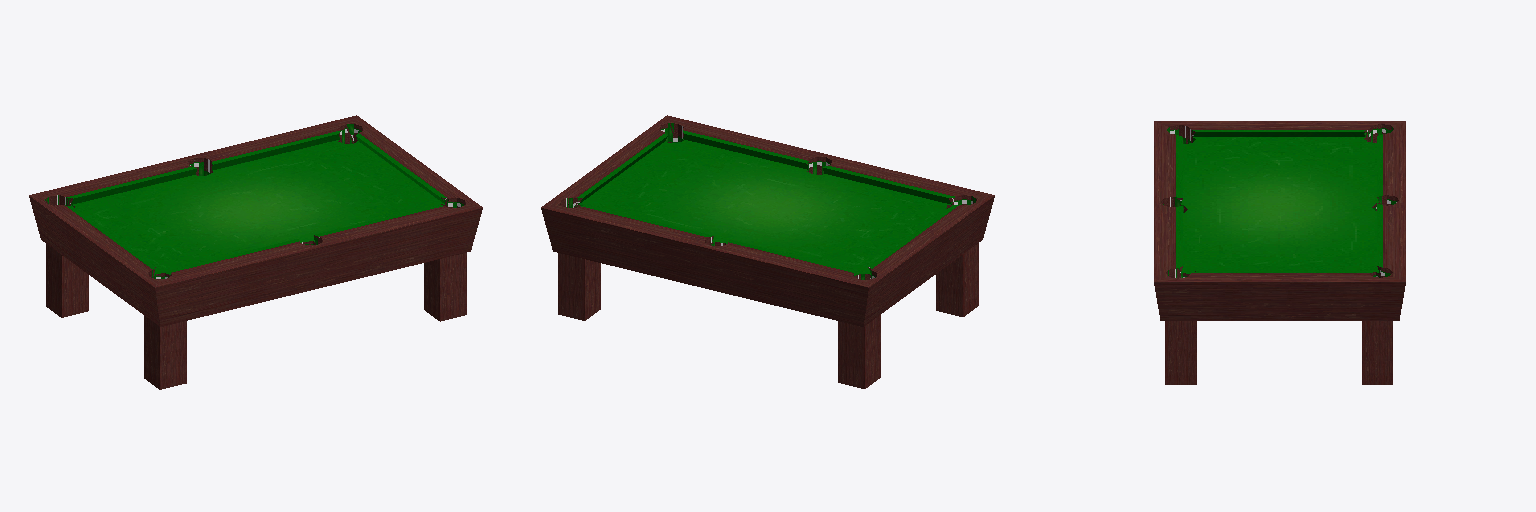
The picture shows the model from 3 angles: view 1: azimuth 30°, elevation 25°; view 2: azimuth 150°, elevation 25°; view 3: azimuth 270°, elevation 25°; orthographic projection.
Visible parts, largest first — view 1: Mesh_Cube; view 2: Mesh_Cube; view 3: Mesh_Cube.
Part boxes in pixels (left/top/right/bottom): Mesh_Cube: left=29, top=115, right=482, bottom=389; Mesh_Cube: left=541, top=115, right=994, bottom=388; Mesh_Cube: left=1154, top=121, right=1405, bottom=384.
Bounding box in the file's own units: 4.22 × 1.34 × 2.81.
2 materials, 1 textured.